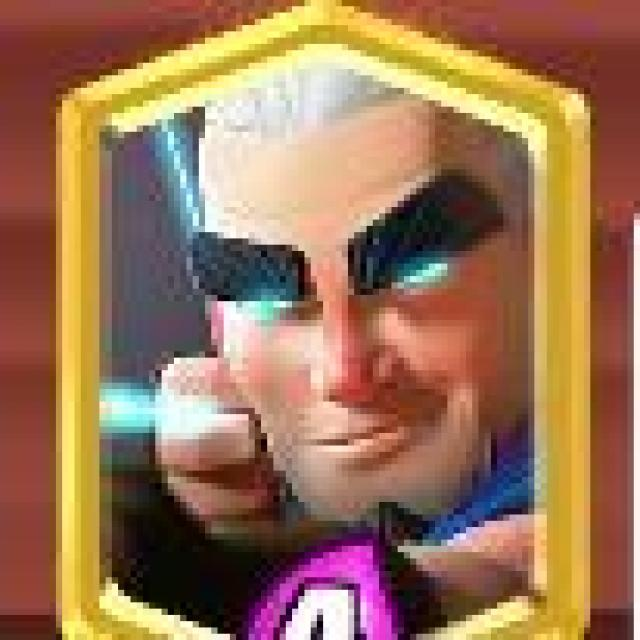Magic_Archer: (65, 10, 587, 640)
